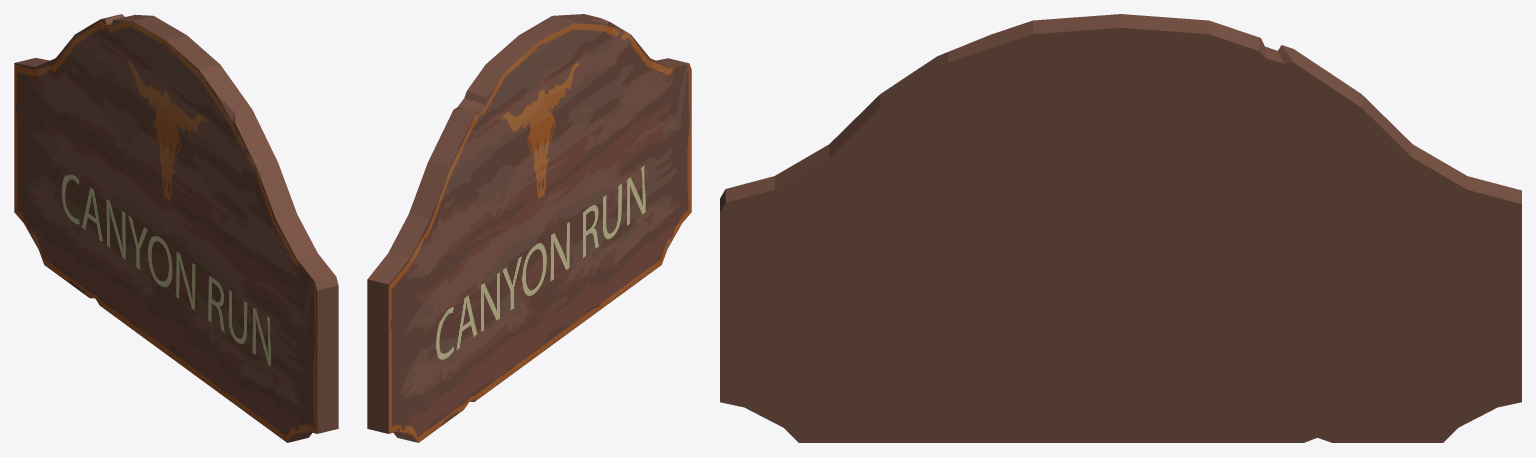
File: canyonRunSign.fbx
3 renders of one model, left to right at view 1: azimuth 30°, elevation 25°; view 2: azimuth 150°, elevation 25°; view 3: azimuth 270°, elevation 25°, orthographic. The views are drawn at different scales.
Visible parts, largest first — view 1: SM_Bld_Sign_02; view 2: SM_Bld_Sign_02; view 3: SM_Bld_Sign_02.
Boxes of the visible parts, bbox=[...] form: SM_Bld_Sign_02: bbox=[14, 14, 338, 442]; SM_Bld_Sign_02: bbox=[367, 14, 691, 442]; SM_Bld_Sign_02: bbox=[720, 14, 1521, 442].
Size of the model in its own units: 11.14 by 156 by 274.
1 material, 1 textured.
